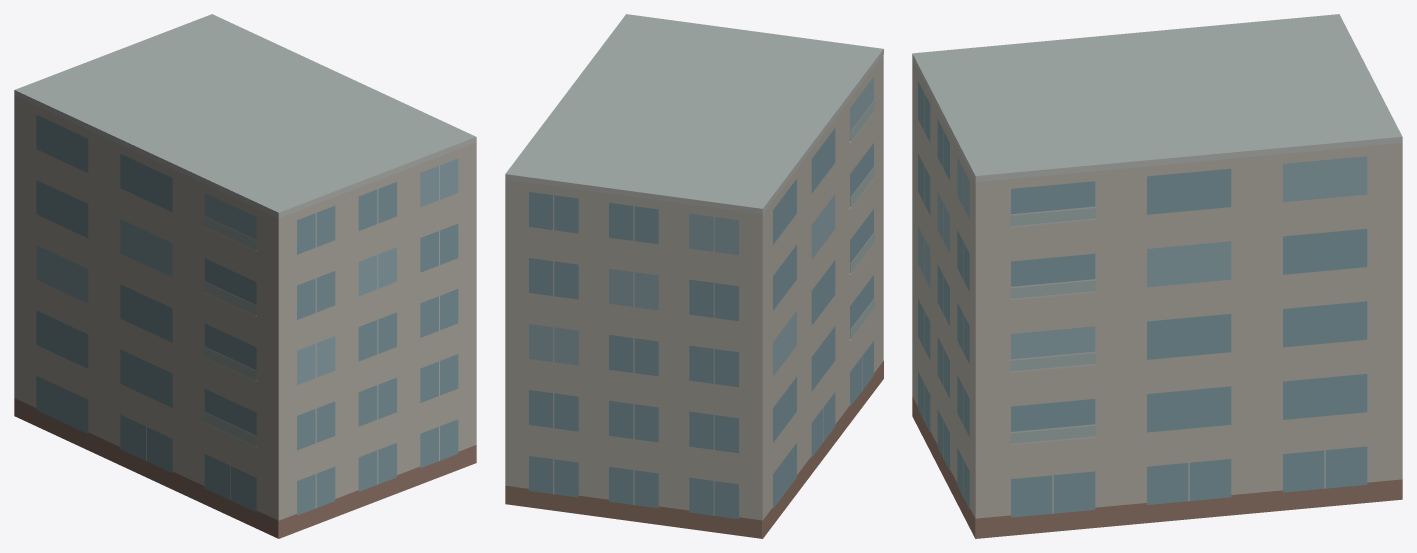
Rendered from residential-eb79cf0a-c9ea-4011-98dd-04b6ec13b62d.glb.
3 views of the same model, side by side, from view 1: azimuth 30°, elevation 25°; view 2: azimuth 150°, elevation 25°; view 3: azimuth 270°, elevation 25° (orthographic). The views are drawn at different scales.
Visible parts, largest first — view 1: residential-eb79cf0a-c9ea-4011-98dd-04b6ec13b62d.tmp; view 2: residential-eb79cf0a-c9ea-4011-98dd-04b6ec13b62d.tmp; view 3: residential-eb79cf0a-c9ea-4011-98dd-04b6ec13b62d.tmp.
Boxes of the visible parts, x1,y1,x2,y2 form: residential-eb79cf0a-c9ea-4011-98dd-04b6ec13b62d.tmp: [14, 14, 476, 538]; residential-eb79cf0a-c9ea-4011-98dd-04b6ec13b62d.tmp: [505, 14, 883, 538]; residential-eb79cf0a-c9ea-4011-98dd-04b6ec13b62d.tmp: [912, 14, 1402, 538].
Bounding box in the file's own units: 13.8 × 14.4 × 17.64.
